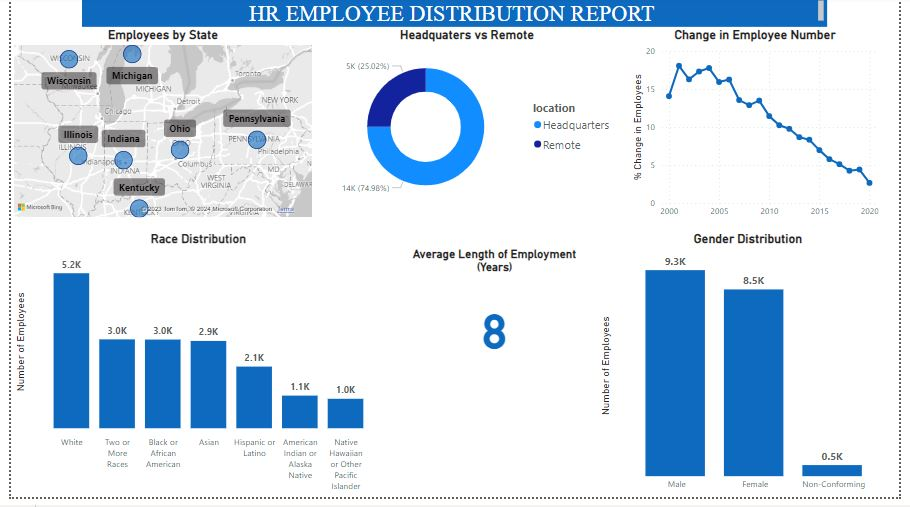

Layout of this report page (visuals, bound fields, positions):
{"tool":"powerbi","page":{"name":"Page 1","canvas":[1280,720],"ordinal":0},"visuals":[{"type":"textbox","box":[102.2,0,1072.8,43.2],"z":0},{"type":"card","title":"Average Length of Employment (Years)","fields":{"Values":["Sum(avg length of emplyment in hr.length_of_emp)"]},"box":[561.6,360,269.3,187.2],"z":1},{"type":"columnChart","title":"Gender Distribution","fields":{"Category":["gender in hr.gender"],"Y":["Sum(gender in hr.count)"]},"box":[842.4,337,437.8,383],"z":2},{"type":"donutChart","title":"Headquaters vs Remote","fields":{"Y":["Sum(location in hr.count)"],"Category":["location in hr.location"]},"box":[437.8,43.2,437.8,266.4],"z":3},{"type":"lineChart","title":"Change in Employee Number","fields":{"Category":["termination percentage in hr.year"],"Y":["Sum(termination percentage in hr.change_percent)"]},"box":[888.5,43.2,365.8,283.7],"z":4},{"type":"map","title":"Employees by State","fields":{"Category":["states in hr.location_state"]},"box":[0,43.2,437.8,279.4],"z":5},{"type":"clusteredColumnChart","title":"Race Distribution","fields":{"Category":["race in hr.race"],"Y":["Sum(race in hr.count)"]},"box":[0,337,540,383],"z":6}]}

Visuals, with their boxes in screenshot pixels (x1, y1, x2, y2), scaled from the page's 1280x720 canvas onto the 910x507 screenshot:
textbox: x1=73, y1=0, x2=835, y2=30
"Average Length of Employment (Years)" card: x1=399, y1=254, x2=591, y2=385
"Gender Distribution" columnChart: x1=599, y1=237, x2=909, y2=506
"Headquaters vs Remote" donutChart: x1=311, y1=30, x2=622, y2=218
"Change in Employee Number" lineChart: x1=632, y1=30, x2=892, y2=230
"Employees by State" map: x1=0, y1=30, x2=311, y2=227
"Race Distribution" clusteredColumnChart: x1=0, y1=237, x2=384, y2=506
